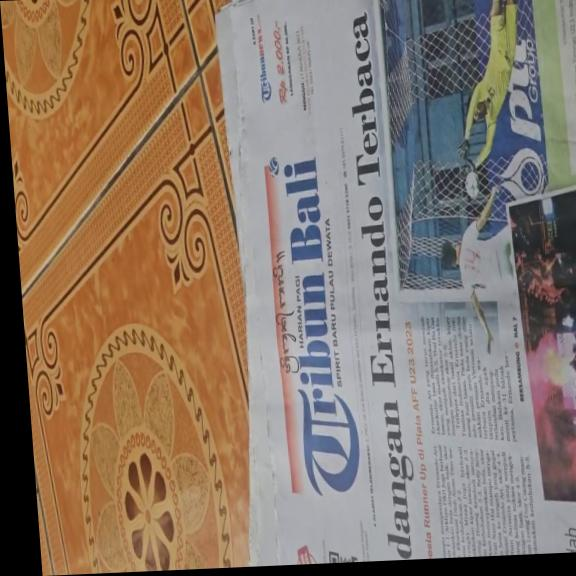Kertas: (217, 0, 576, 566)
